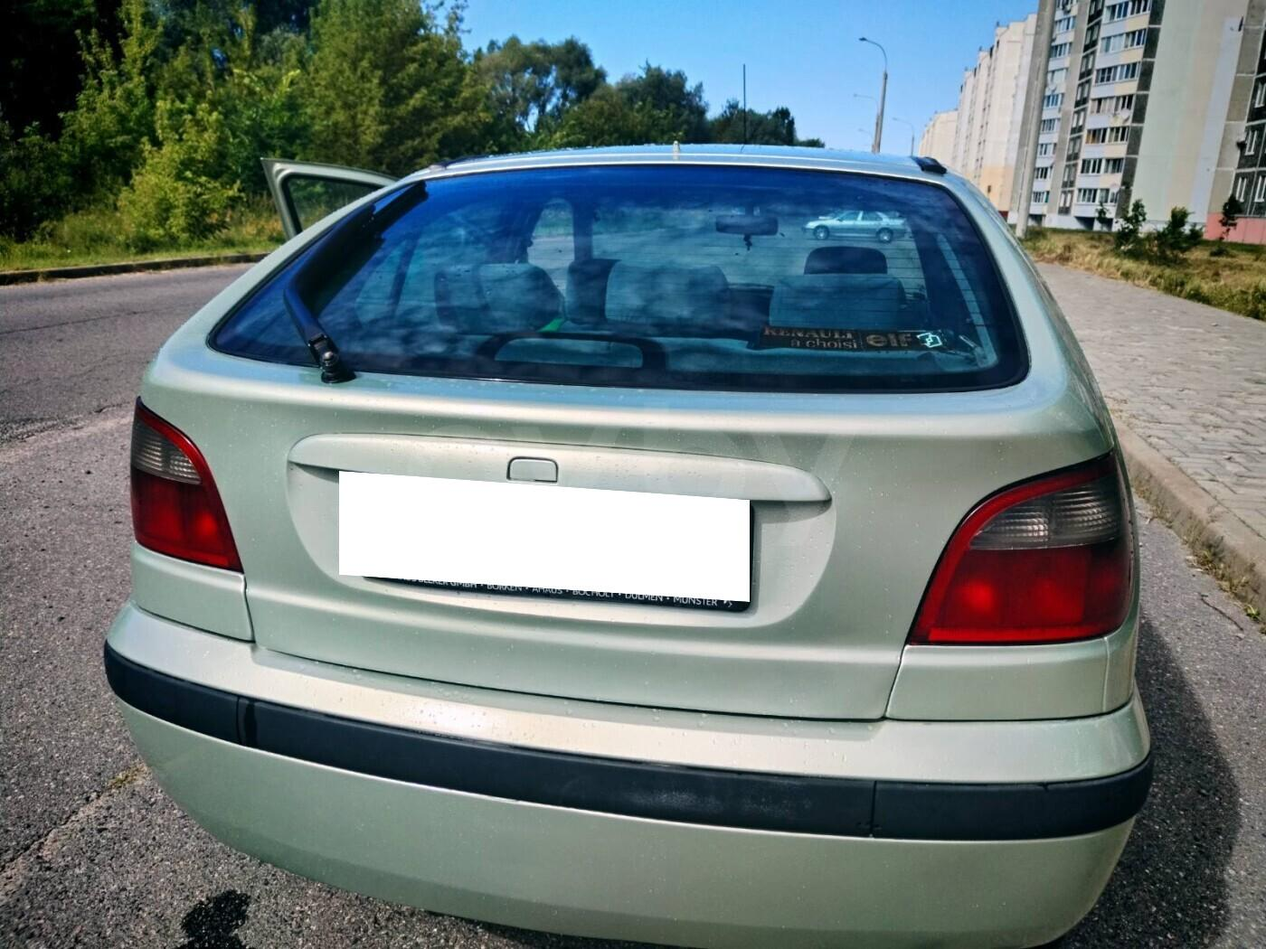Megane_1999-2003: (88, 131, 1167, 949)
